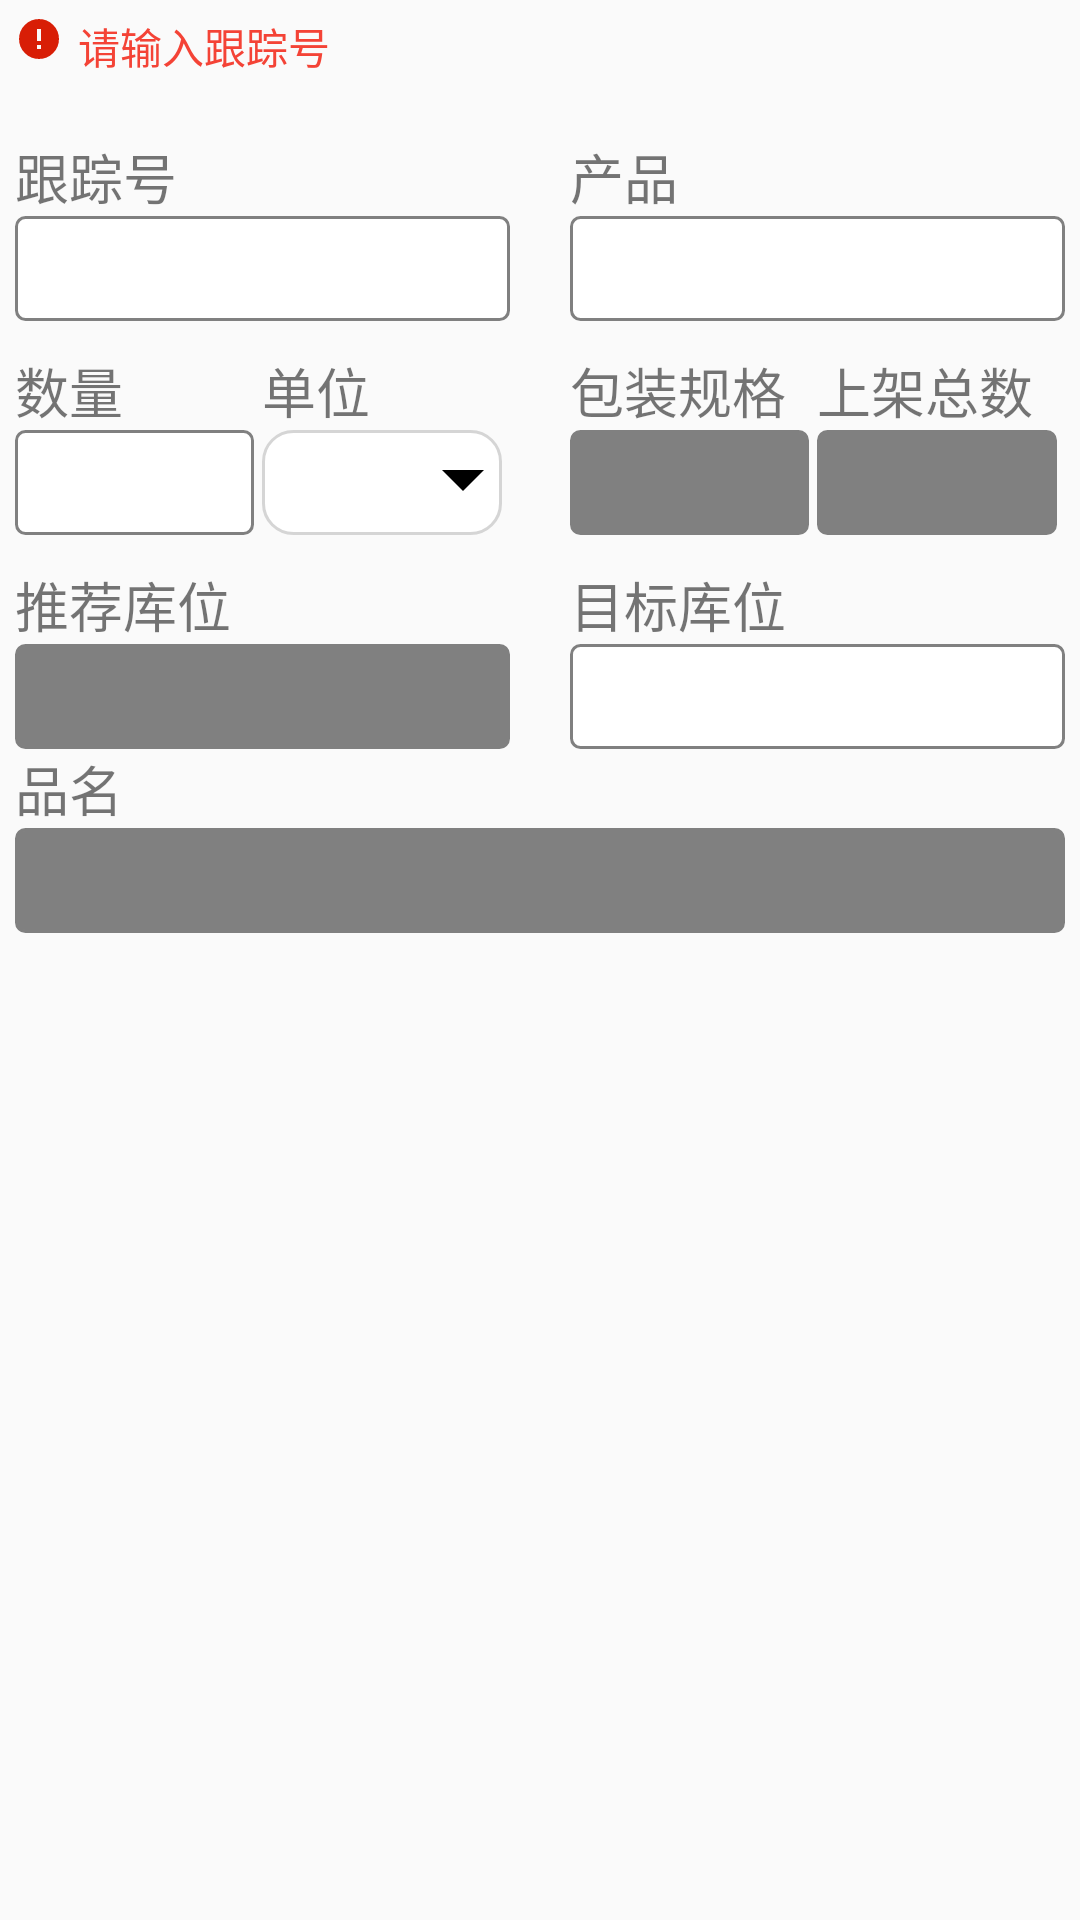

Screen size 1080x1920. Icon name, then its box in pixels as (x1, y1, x2, y2):
error: (19, 19, 59, 59)
